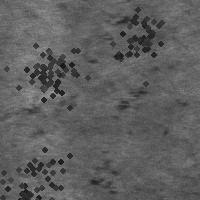rolled-in_scale: (5, 30, 89, 114), (97, 0, 173, 75), (0, 136, 80, 200), (21, 93, 77, 138), (88, 145, 121, 195), (113, 84, 149, 115)
